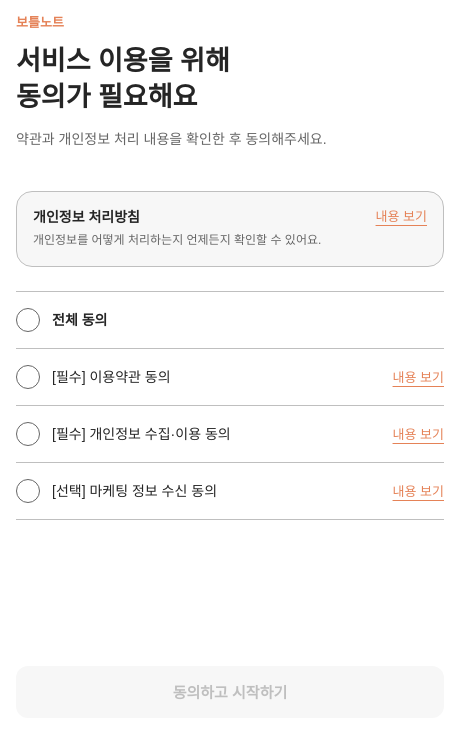
Test: AgreementScreen › 필수 동의 두 개를 선택해야 시작 버튼이 활성화된다
The image size is (461, 735).
Click the checkbox labelled "[필수] 이용약관 동의" at (93, 377), box 16,365 -> 171,389
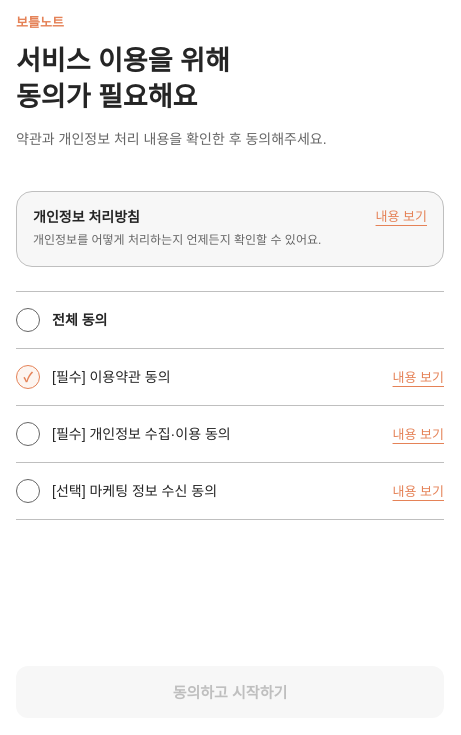
expect the button "동의하고 시작하기" is disabled: met, box 16,666 -> 444,718
Click the checkbox labelled "[필수] 개인정보 수집·이용 동의" at (123, 434), box 16,422 -> 231,446
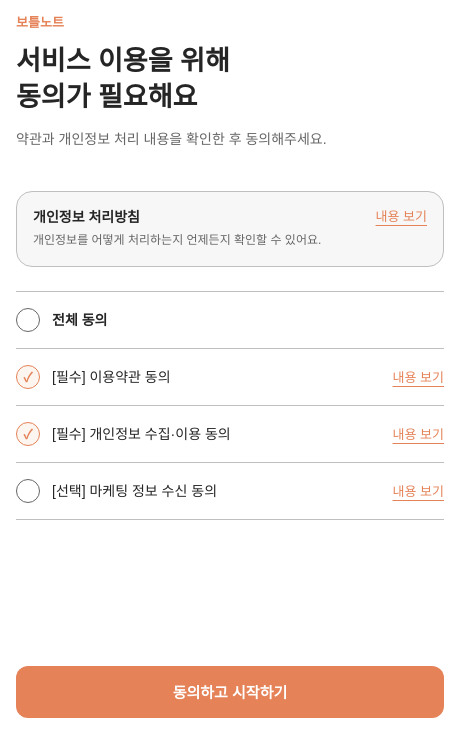
expect the button "동의하고 시작하기" is enabled: met, box 16,666 -> 444,718
